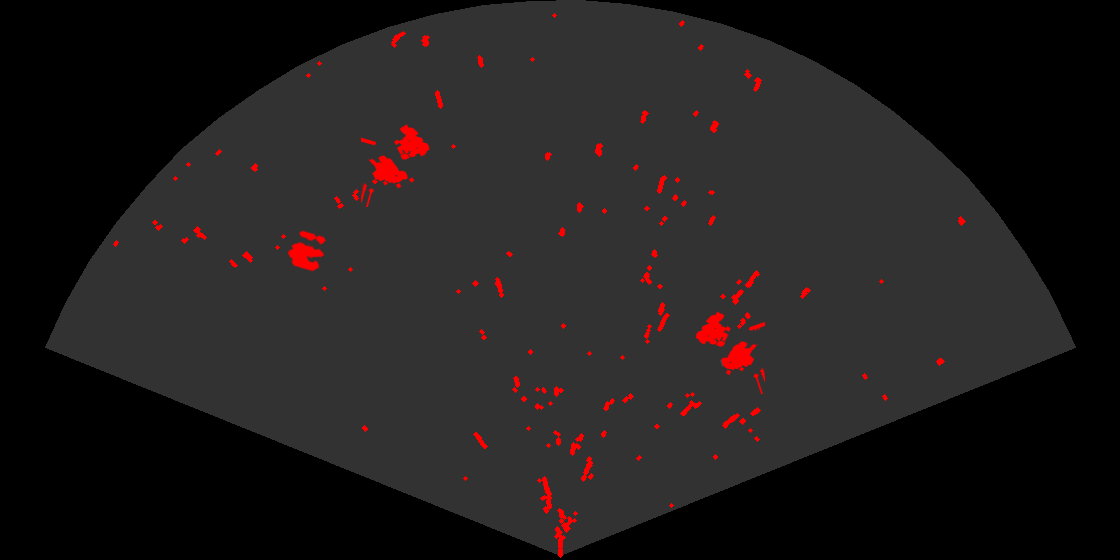ball: (286, 229, 328, 273)
cage: (694, 310, 765, 394), (361, 123, 431, 207)
